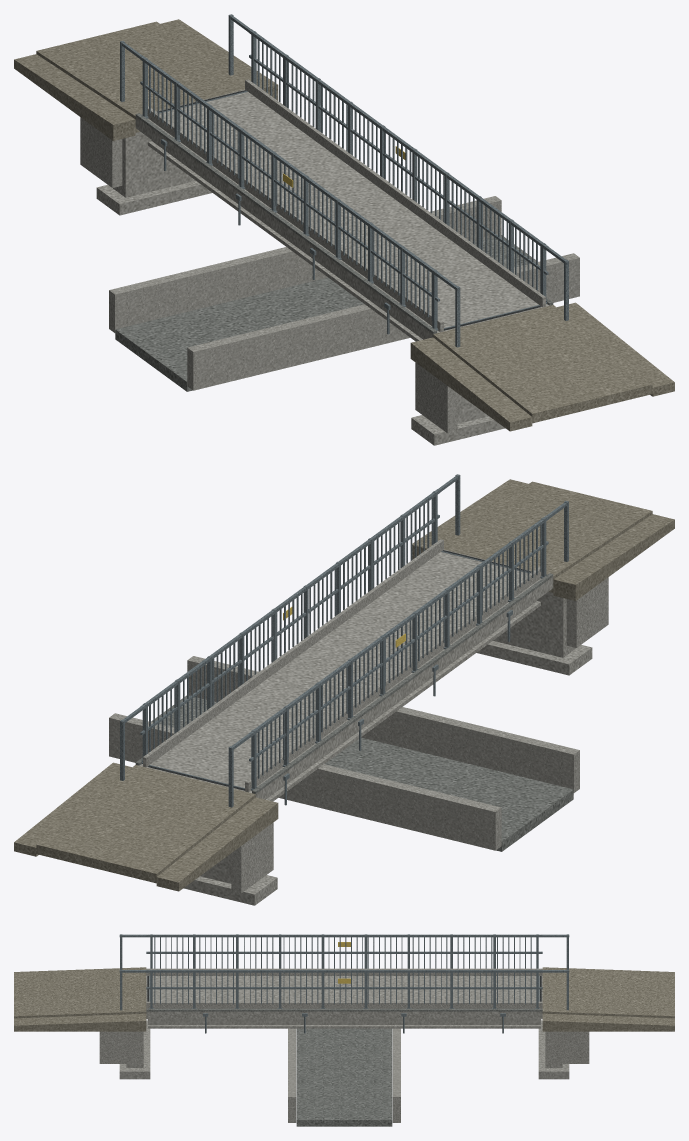
3 renders of one model, top to bottom at view 1: azimuth 30°, elevation 25°; view 2: azimuth 150°, elevation 25°; view 3: azimuth 270°, elevation 25°, orthographic. The views are drawn at different scales.
Parts seen in each view (by area): view 1: VIS_Approach_CompactedGravel, VIS_Deck_PouredSlab, VIS_Drainage_ChannelWalls, VIS_Rail_VerticalInfill, VIS_Approach_GravelShoulders, VIS_Drainage_ConcreteInvert, VIS_Walk_ToeBoard, VIS_Structure_EndAbutments, VIS_Rail_HighGuardPosts, VIS_Structure_WingWalls, VIS_Rail_TopRail_1300mm, VIS_Rail_IntermediateRail (+3 smaller); view 2: VIS_Approach_CompactedGravel, VIS_Deck_PouredSlab, VIS_Drainage_ChannelWalls, VIS_Rail_VerticalInfill, VIS_Approach_GravelShoulders, VIS_Drainage_ConcreteInvert, VIS_Walk_ToeBoard, VIS_Structure_EndAbutments, VIS_Rail_HighGuardPosts, VIS_Structure_WingWalls, VIS_Rail_TopRail_1300mm, VIS_Rail_IntermediateRail (+3 smaller); view 3: VIS_Deck_PouredSlab, VIS_Approach_CompactedGravel, VIS_Drainage_ConcreteInvert, VIS_Rail_VerticalInfill, VIS_Approach_GravelShoulders, VIS_Walk_ToeBoard, VIS_Structure_LongitudinalGirders, VIS_Structure_WingWalls, VIS_Rail_TopRail_1300mm, VIS_Rail_HighGuardPosts, VIS_Rail_IntermediateRail, VIS_Drainage_ChannelWalls (+3 smaller).
Boxes of the visible parts, x1,y1,x2,y2 form: VIS_Approach_CompactedGravel: (36,21,652,423); VIS_Deck_PouredSlab: (135,89,549,339); VIS_Drainage_ChannelWalls: (109,196,579,390); VIS_Rail_VerticalInfill: (149,39,540,319); VIS_Approach_GravelShoulders: (14,19,674,431); VIS_Drainage_ConcreteInvert: (115,235,535,391); VIS_Walk_ToeBoard: (147,79,545,332); VIS_Structure_EndAbutments: (96,132,505,445); VIS_Rail_HighGuardPosts: (142,31,546,328); VIS_Structure_WingWalls: (80,117,457,433); VIS_Rail_TopRail_1300mm: (140,29,548,276); VIS_Rail_IntermediateRail: (140,54,548,301); VIS_Approach_CompactedGravel: (36,481,652,883); VIS_Deck_PouredSlab: (139,549,553,799); VIS_Drainage_ChannelWalls: (109,656,579,850); VIS_Rail_VerticalInfill: (149,498,541,778); VIS_Approach_GravelShoulders: (14,479,674,891); VIS_Drainage_ConcreteInvert: (151,695,573,851); VIS_Walk_ToeBoard: (143,539,541,792); VIS_Structure_EndAbutments: (183,592,592,905); VIS_Rail_HighGuardPosts: (142,491,546,788); VIS_Structure_WingWalls: (231,577,608,893); VIS_Rail_TopRail_1300mm: (140,489,548,736); VIS_Rail_IntermediateRail: (140,514,548,761); VIS_Deck_PouredSlab: (146,976,542,1019); VIS_Approach_CompactedGravel: (14,972,674,1018); VIS_Drainage_ConcreteInvert: (296,1028,392,1126); VIS_Rail_VerticalInfill: (154,937,531,1004); VIS_Approach_GravelShoulders: (14,967,674,1031); VIS_Walk_ToeBoard: (146,968,542,1008); VIS_Structure_LongitudinalGirders: (148,1019,540,1028); VIS_Structure_WingWalls: (99,1031,589,1063); VIS_Rail_TopRail_1300mm: (146,934,542,972); VIS_Rail_HighGuardPosts: (150,934,538,1008); VIS_Rail_IntermediateRail: (146,951,542,989); VIS_Drainage_ChannelWalls: (288,1028,400,1122).
Bounding box in the file's own units: 9 × 3.72 × 20.
Materials: 6 (6 with a texture image).
